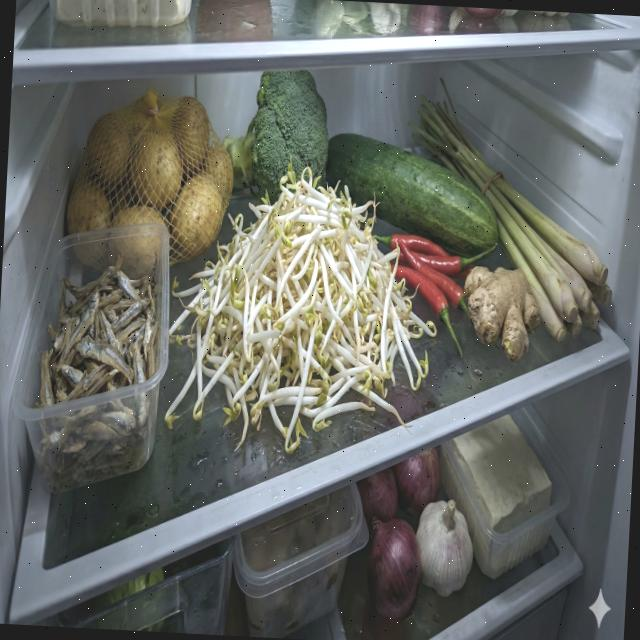anchovies: (31, 242, 164, 498)
bean_sprouts: (162, 148, 448, 459)
brocolli: (219, 66, 334, 211)
chili: (370, 230, 477, 362)
cucumber: (321, 130, 504, 265)
garlic: (412, 498, 477, 600)
ginger: (460, 265, 543, 363)
lemongrass: (396, 76, 624, 344)
onion: (349, 442, 442, 625)
potato: (62, 89, 238, 286)
tofu: (444, 410, 556, 574)
